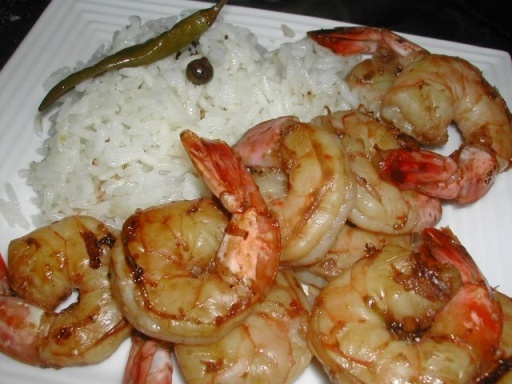background: (1, 0, 409, 230), (1, 30, 24, 139)
